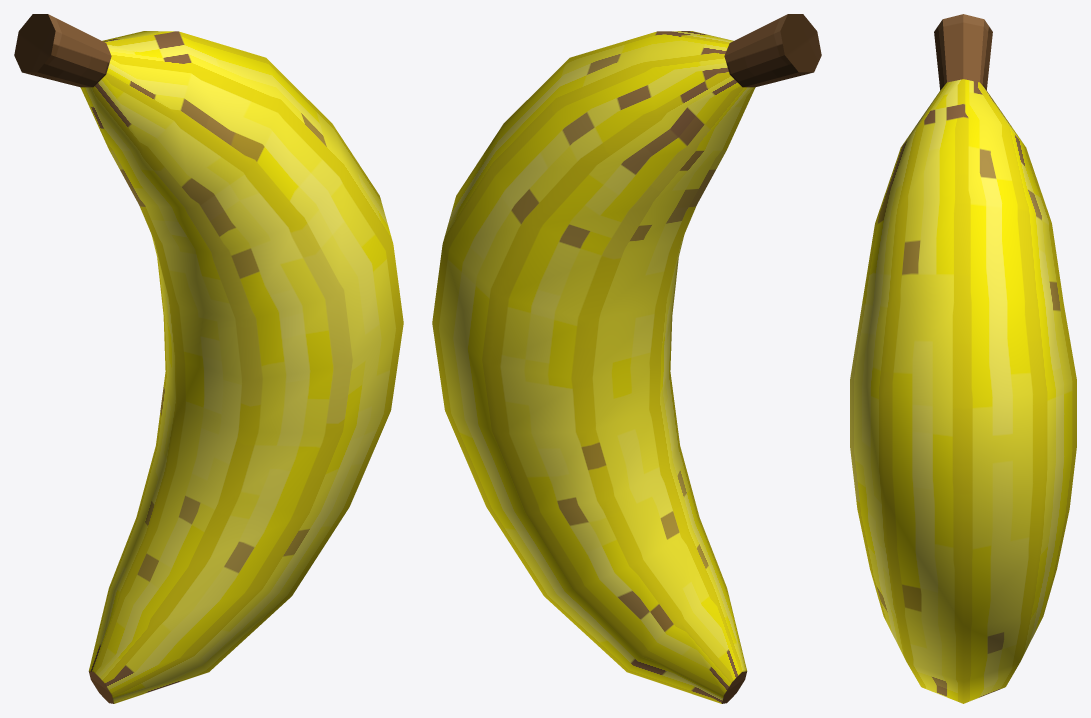
File: FBX_3DAsset_Game_Banananana.FBX
The picture shows the model from 3 angles, left to right: view 1: azimuth 30°, elevation 25°; view 2: azimuth 150°, elevation 25°; view 3: azimuth 270°, elevation 25°; orthographic projection. The views are drawn at different scales.
Parts seen in each view (by area): view 1: Cylinder001; view 2: Cylinder001; view 3: Cylinder001.
Boxes of the visible parts, x1,y1,x2,y2 form: Cylinder001: (14, 14, 403, 703); Cylinder001: (432, 14, 821, 703); Cylinder001: (850, 14, 1076, 703).
Bounding box in the file's own units: 26.49 × 48.28 × 15.53.
